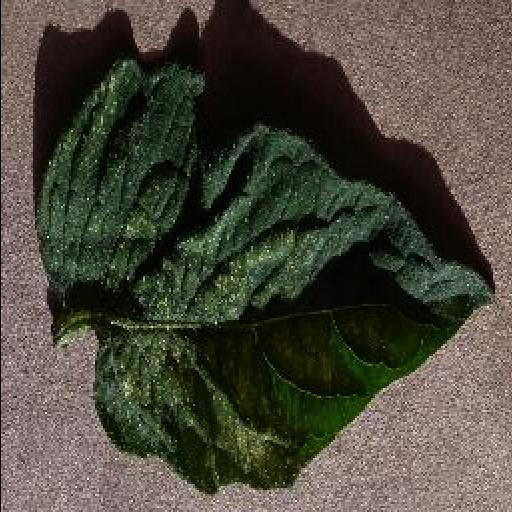disease_tomato: (33, 61, 499, 495)
